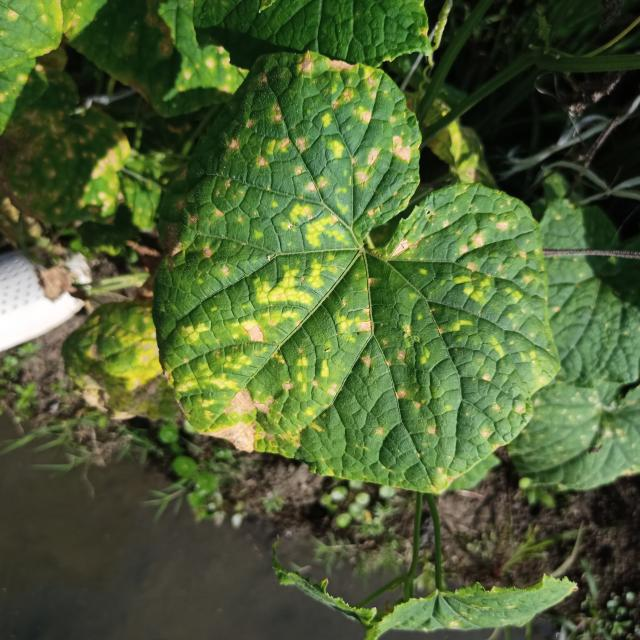disease_cucumber: (167, 48, 547, 480)
